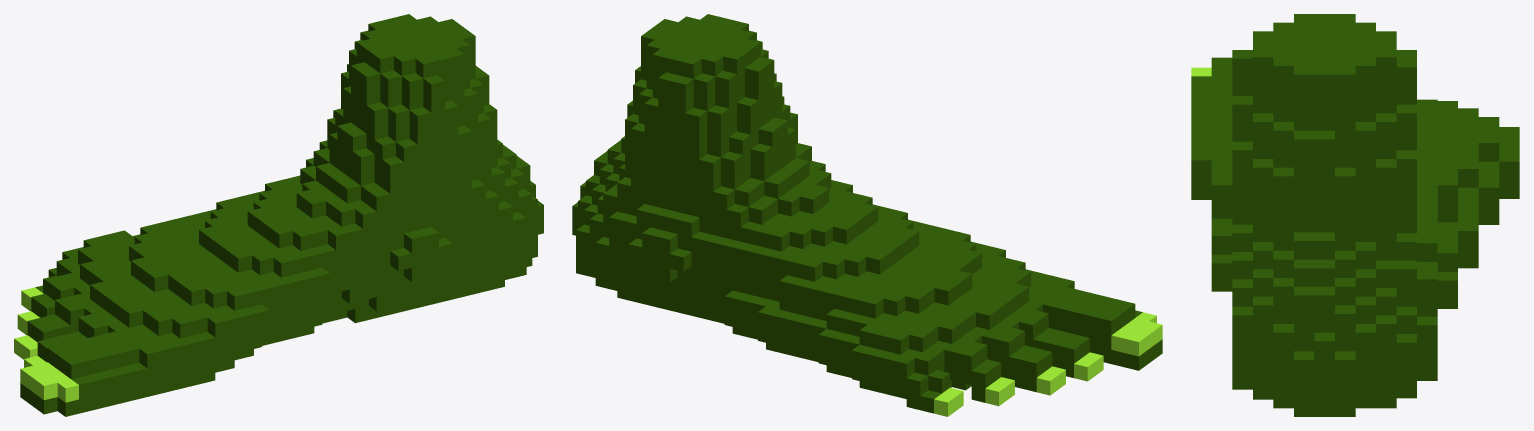
Rendered from Shrek.fbx.
3 views of the same model, side by side, from view 1: azimuth 30°, elevation 25°; view 2: azimuth 150°, elevation 25°; view 3: azimuth 270°, elevation 25° (orthographic). The views are drawn at different scales.
Parts seen in each view (by area): view 1: Untitled; view 2: Untitled; view 3: Untitled.
Boxes of the visible parts, x1,y1,x2,y2 form: Untitled: [14, 14, 543, 416]; Untitled: [572, 14, 1162, 416]; Untitled: [1191, 14, 1519, 416].
Bounding box in the file's own units: 390 × 170 × 160.
